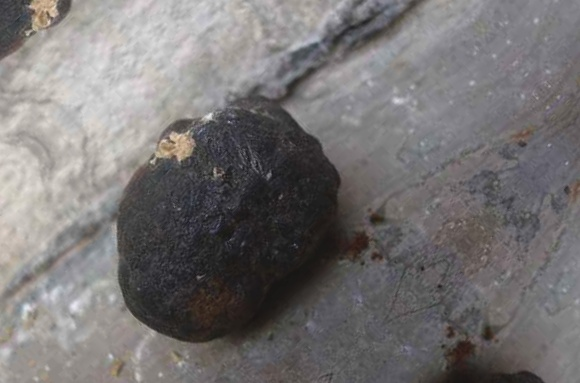halobolite: (47, 54, 383, 383)
